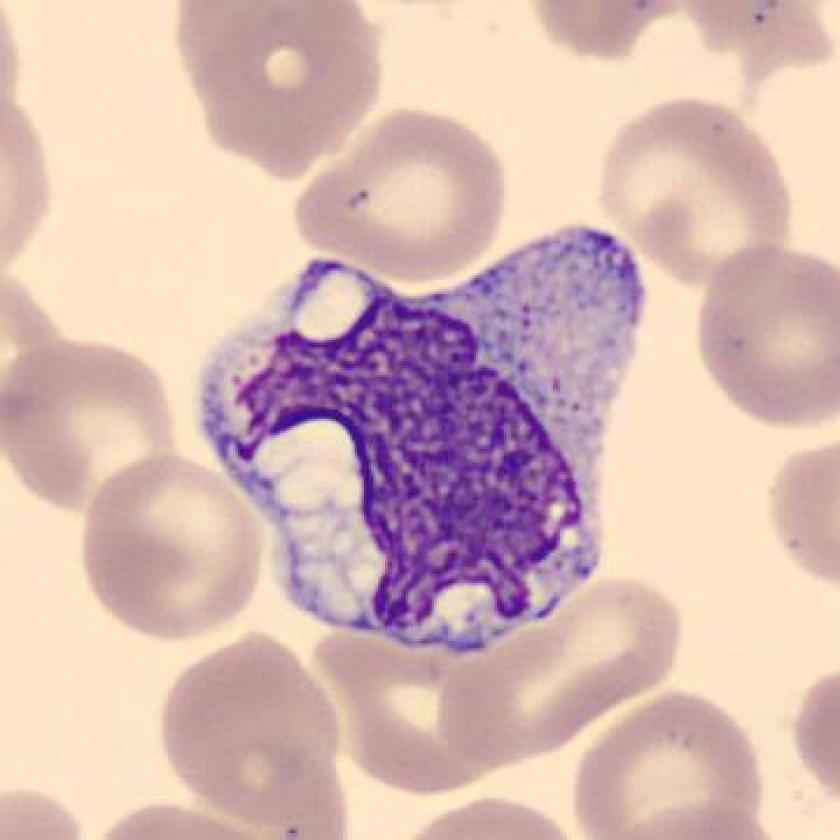monocyte: (185, 205, 664, 663)
